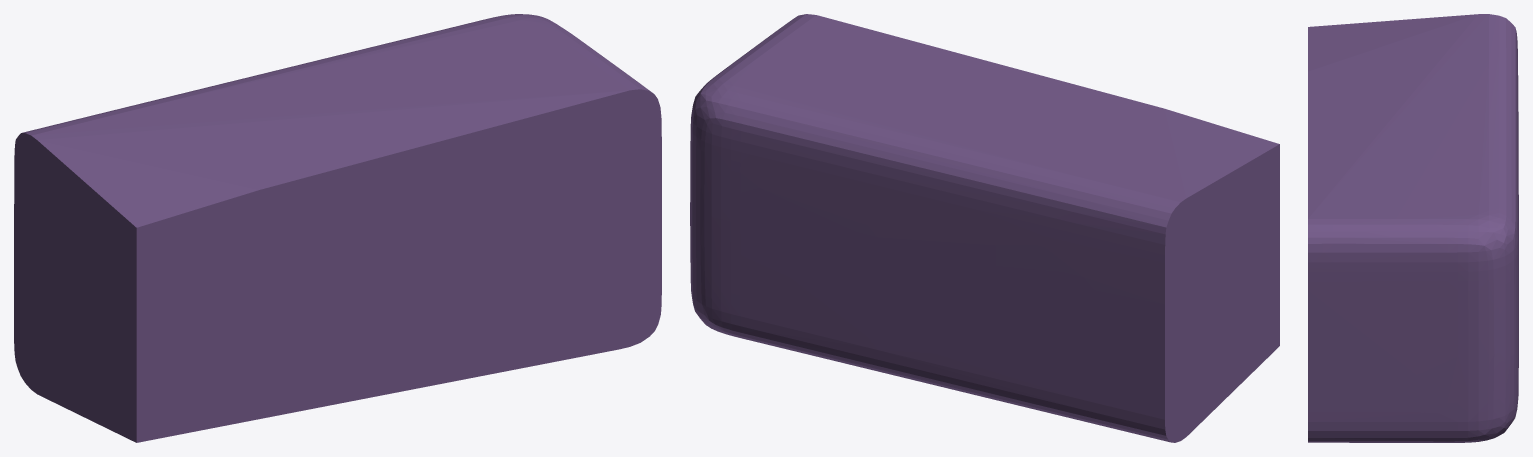
The picture shows the model from 3 angles, left to right: view 1: azimuth 30°, elevation 25°; view 2: azimuth 150°, elevation 25°; view 3: azimuth 270°, elevation 25°; orthographic projection. The views are drawn at different scales.
Size of the model in its own units: 0.0629 by 0.0294 by 0.0255.
